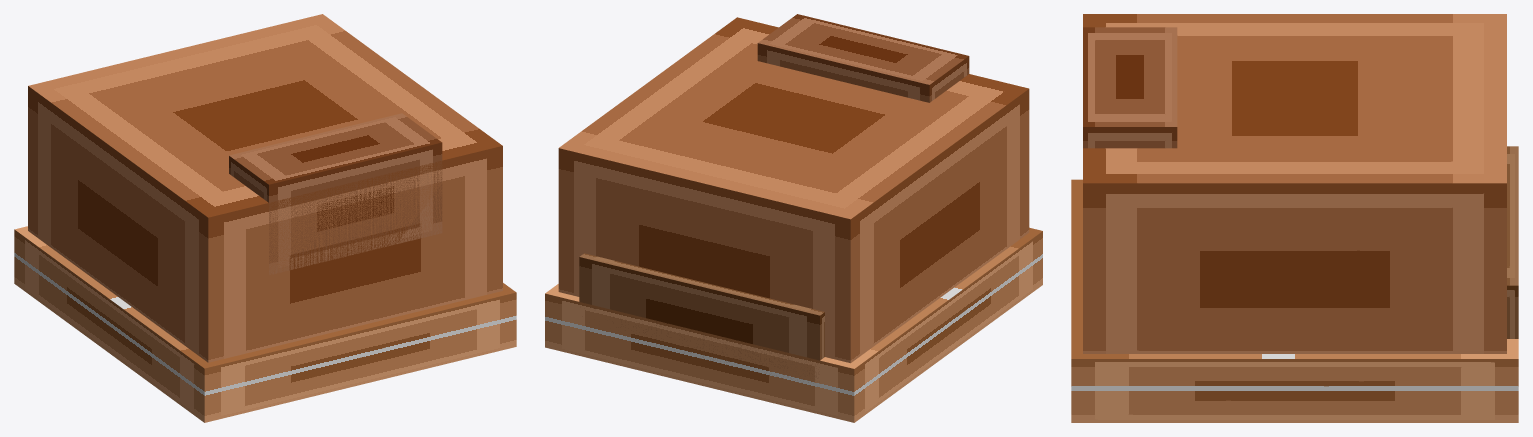
3 views of the same model, side by side, from view 1: azimuth 30°, elevation 25°; view 2: azimuth 150°, elevation 25°; view 3: azimuth 270°, elevation 25° (orthographic). The views are drawn at different scales.
Visible parts, largest first — view 1: copper_head; view 2: copper_head; view 3: copper_head.
Part boxes in pixels (x1,y1,x2,y2): copper_head: (14, 14, 516, 422); copper_head: (545, 14, 1042, 422); copper_head: (1071, 14, 1518, 422).
Bounding box in the file's own units: 0.36 × 0.24 × 0.38.
Materials: 4 (4 with a texture image).
